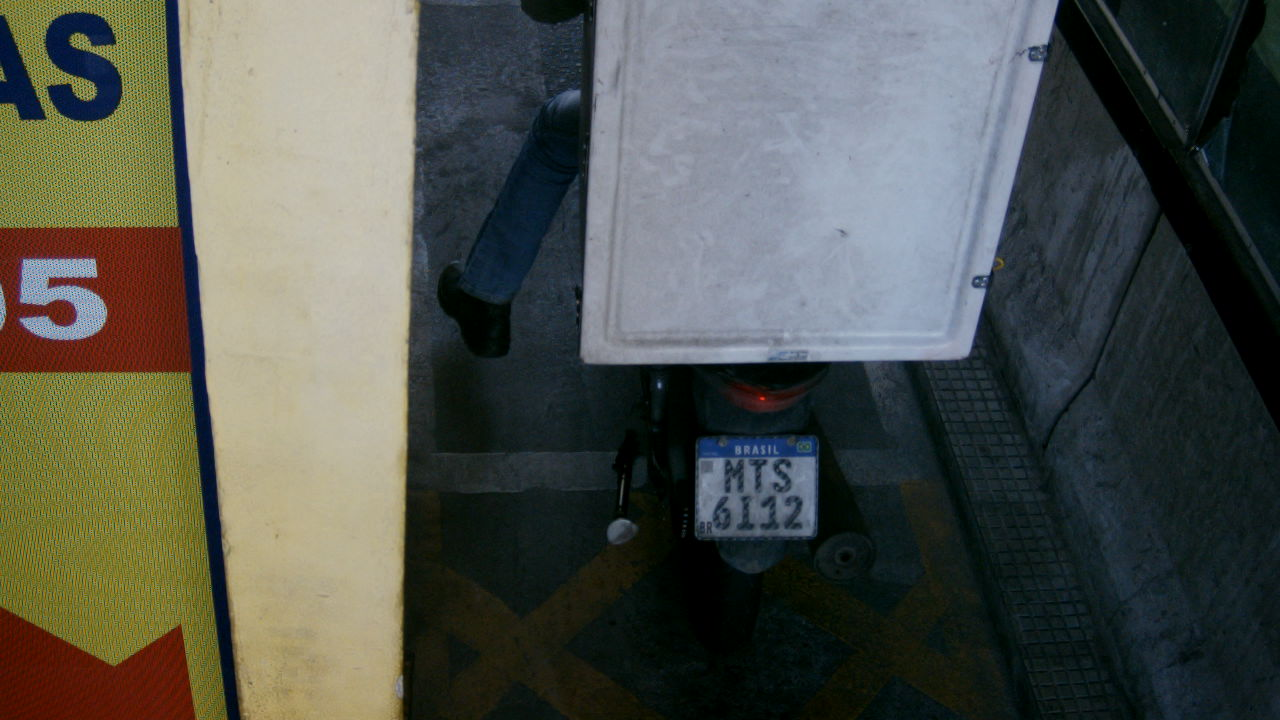placa: (693, 433, 819, 541)
